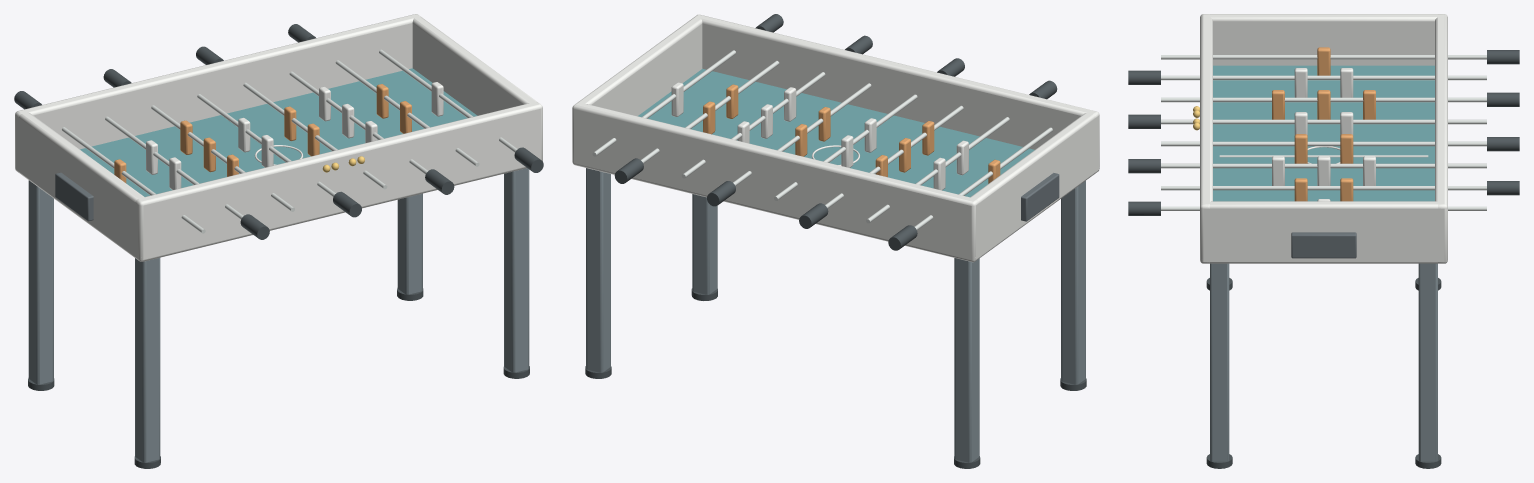
The model's file is table_football.glb.
The picture shows the model from 3 angles, left to right: view 1: azimuth 30°, elevation 25°; view 2: azimuth 150°, elevation 25°; view 3: azimuth 270°, elevation 25°; orthographic projection. The views are drawn at different scales.
Parts seen in each view (by area): view 1: body_white_painted, legs_dark_alloy, pitch_field_teal, rods_satin_steel, grips_black_rubber, team_white_painted, team_orange, goal_l_graphite, feet_black_rubber; view 2: body_white_painted, legs_dark_alloy, pitch_field_teal, rods_satin_steel, grips_black_rubber, team_white_painted, team_orange, goal_l_graphite, feet_black_rubber; view 3: body_white_painted, pitch_field_teal, rods_satin_steel, legs_dark_alloy, grips_black_rubber, team_orange, team_white_painted, goal_r_graphite, feet_black_rubber, halfway_line_white_painted.
Part boxes in pixels (left/top/right/bottom): body_white_painted: left=15, top=14, right=542, bottom=261; legs_dark_alloy: left=28, top=168, right=529, bottom=462; pitch_field_teal: left=80, top=68, right=477, bottom=196; rods_satin_steel: left=62, top=49, right=517, bottom=233; grips_black_rubber: left=14, top=24, right=543, bottom=239; team_white_painted: left=146, top=82, right=443, bottom=189; team_orange: left=114, top=84, right=411, bottom=183; goal_l_graphite: left=55, top=172, right=93, bottom=221; feet_black_rubber: left=28, top=288, right=529, bottom=468; body_white_painted: left=572, top=14, right=1099, bottom=262; legs_dark_alloy: left=586, top=168, right=1085, bottom=462; pitch_field_teal: left=638, top=68, right=1034, bottom=197; rods_satin_steel: left=592, top=50, right=1052, bottom=230; grips_black_rubber: left=614, top=14, right=1057, bottom=250; team_white_painted: left=671, top=82, right=968, bottom=190; team_orange: left=703, top=84, right=1000, bottom=183; goal_l_graphite: left=1021, top=173, right=1059, bottom=221; feet_black_rubber: left=585, top=288, right=1086, bottom=468; body_white_painted: left=1200, top=14, right=1447, bottom=263; pitch_field_teal: left=1213, top=65, right=1434, bottom=201; rods_satin_steel: left=1161, top=55, right=1486, bottom=210; legs_dark_alloy: left=1210, top=263, right=1437, bottom=461; grips_black_rubber: left=1128, top=50, right=1519, bottom=215; team_orange: left=1272, top=47, right=1375, bottom=201; team_white_painted: left=1272, top=68, right=1375, bottom=201; goal_r_graphite: left=1291, top=232, right=1356, bottom=258; feet_black_rubber: left=1206, top=278, right=1441, bottom=468; halfway_line_white_painted: left=1219, top=155, right=1428, bottom=157.
Size of the model in its own units: 1.44 by 0.9 by 1.2.
